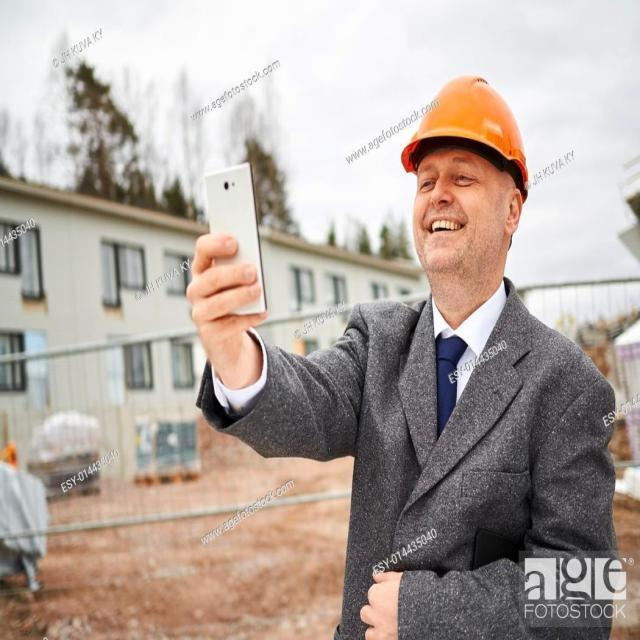helmet: (402, 75, 532, 188)
